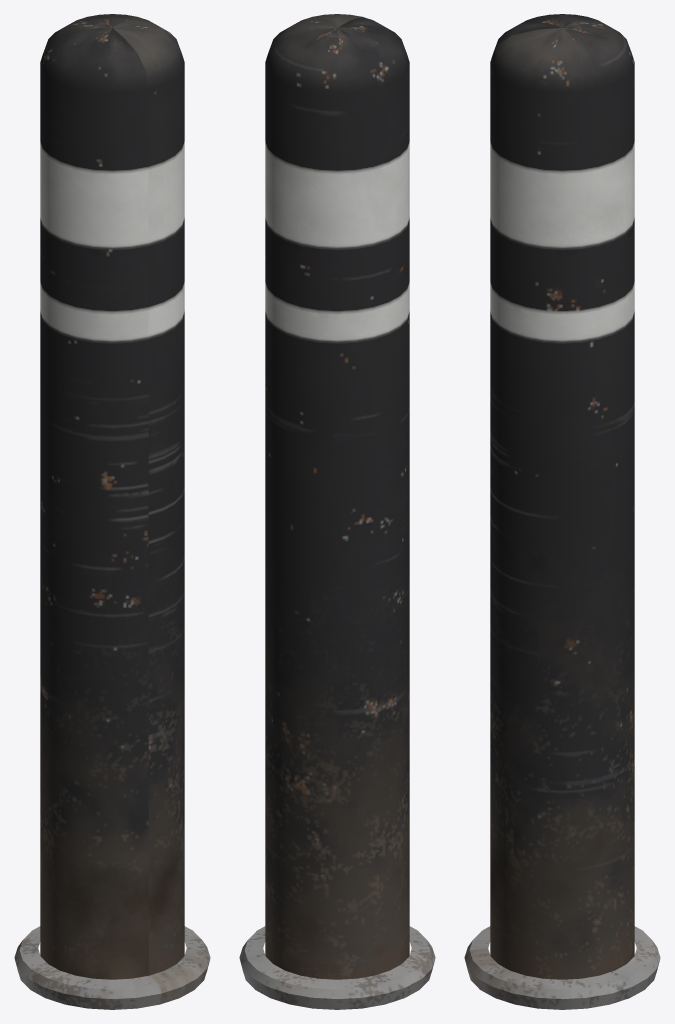
Rendered from black-steel-street-bollard.glb.
3 renders of one model, left to right at view 1: azimuth 30°, elevation 25°; view 2: azimuth 150°, elevation 25°; view 3: azimuth 270°, elevation 25°, orthographic.
Visible parts, largest first — view 1: bollard_steel; view 2: bollard_steel; view 3: bollard_steel.
Boxes of the visible parts, x1=… form: bollard_steel: x1=14, y1=14, x2=210, y2=1009; bollard_steel: x1=239, y1=14, x2=435, y2=1009; bollard_steel: x1=464, y1=14, x2=660, y2=1009.
Size of the model in its own units: 0.19 by 1.01 by 0.19.
Materials: 1 (1 with a texture image).
